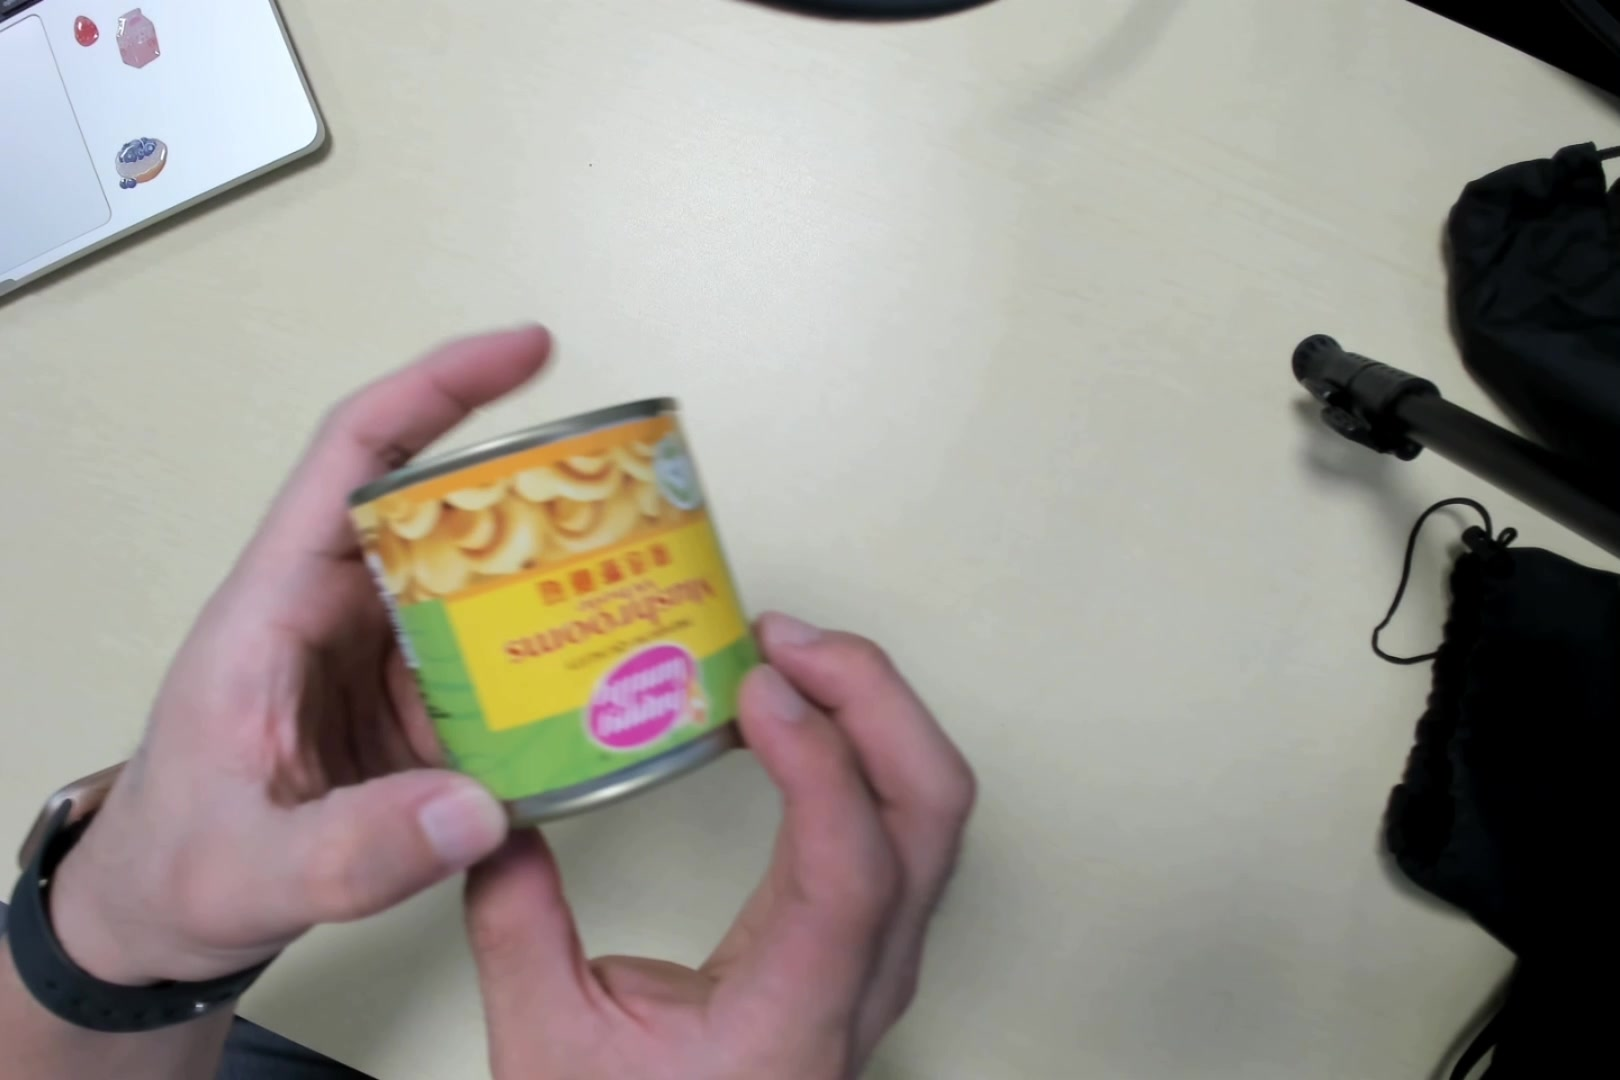CannedMashrooms_100-199g_Halal_NonHealthy: (354, 387, 765, 821)
